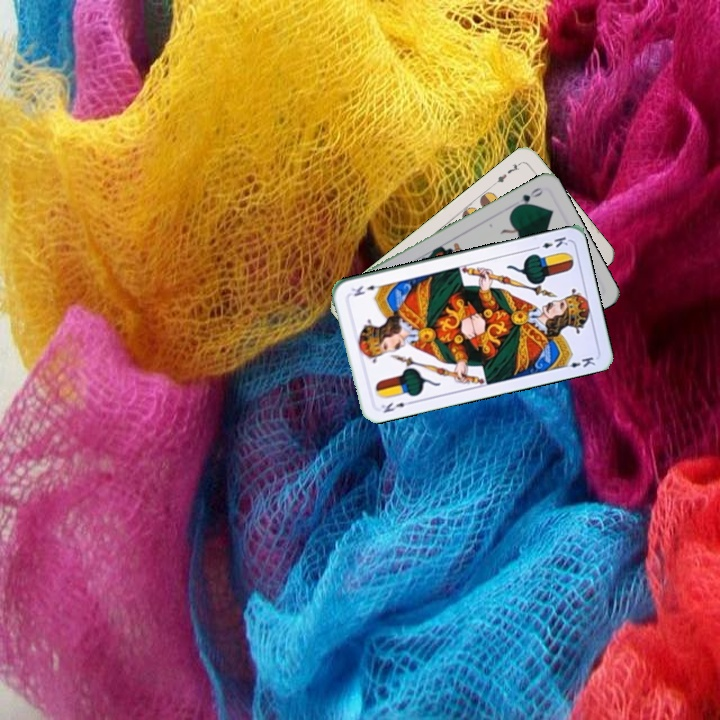E7: (490, 158, 524, 188)
EK: (530, 233, 570, 252), (378, 397, 414, 415)
GO: (510, 183, 545, 211)
